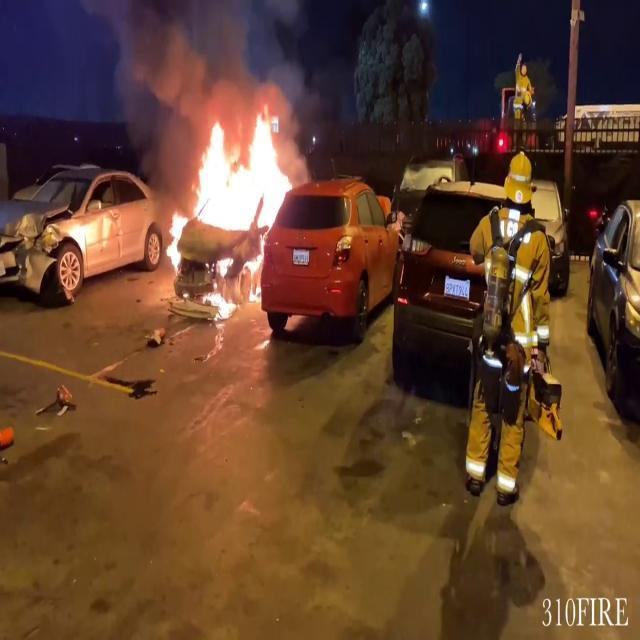Fire: (162, 104, 298, 305)
Smoke: (84, 0, 308, 132)
